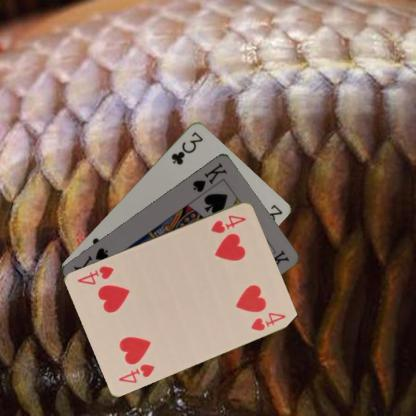3c: (168, 129, 205, 166)
4h: (116, 361, 156, 384), (208, 212, 248, 234)
Ks: (190, 160, 229, 194)
